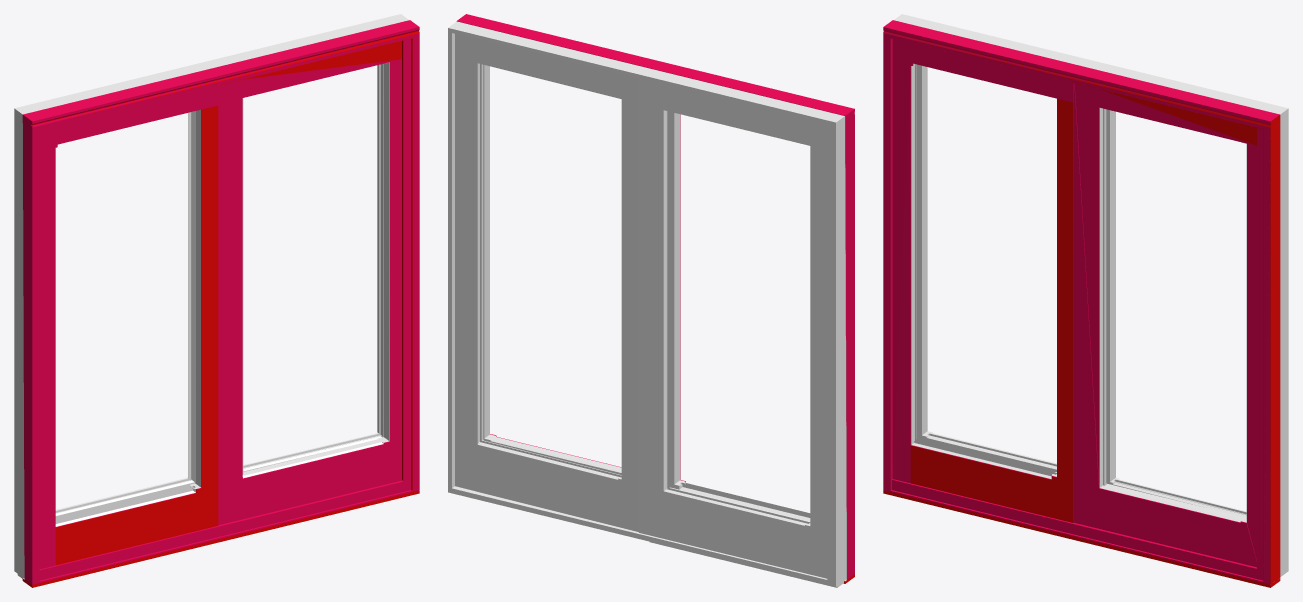
The model's file is 2_windows.glb.
The picture shows the model from 3 angles, left to right: view 1: azimuth 30°, elevation 25°; view 2: azimuth 150°, elevation 25°; view 3: azimuth 330°, elevation 25°; orthographic projection.
Visible parts, largest first — view 1: 3DGeom-1, 3DGeom-2, 3DGeom-27, 3DGeom-4, 3DGeom-28, 3DGeom-16; view 2: 3DGeom-27, 3DGeom-4, 3DGeom-1, 3DGeom-16, 3DGeom-28; view 3: 3DGeom-1, 3DGeom-2, 3DGeom-27, 3DGeom-4, 3DGeom-16, 3DGeom-28.
Boxes of the visible parts, x1,y1,x2,y2 form: 3DGeom-1: [22, 20, 419, 584]; 3DGeom-2: [22, 30, 419, 587]; 3DGeom-27: [14, 14, 408, 578]; 3DGeom-4: [17, 41, 403, 578]; 3DGeom-28: [188, 98, 243, 479]; 3DGeom-16: [55, 436, 379, 523]; 3DGeom-27: [448, 21, 846, 586]; 3DGeom-4: [455, 33, 843, 587]; 3DGeom-1: [456, 14, 854, 579]; 3DGeom-16: [486, 441, 810, 517]; 3DGeom-28: [667, 111, 669, 488]; 3DGeom-1: [883, 20, 1279, 584]; 3DGeom-2: [883, 30, 1280, 587]; 3DGeom-27: [894, 14, 1288, 576]; 3DGeom-4: [911, 63, 1246, 522]; 3DGeom-16: [914, 65, 1245, 514]; 3DGeom-28: [1103, 108, 1104, 485].
Size of the model in its own units: 1.94 by 2.25 by 0.1592.
